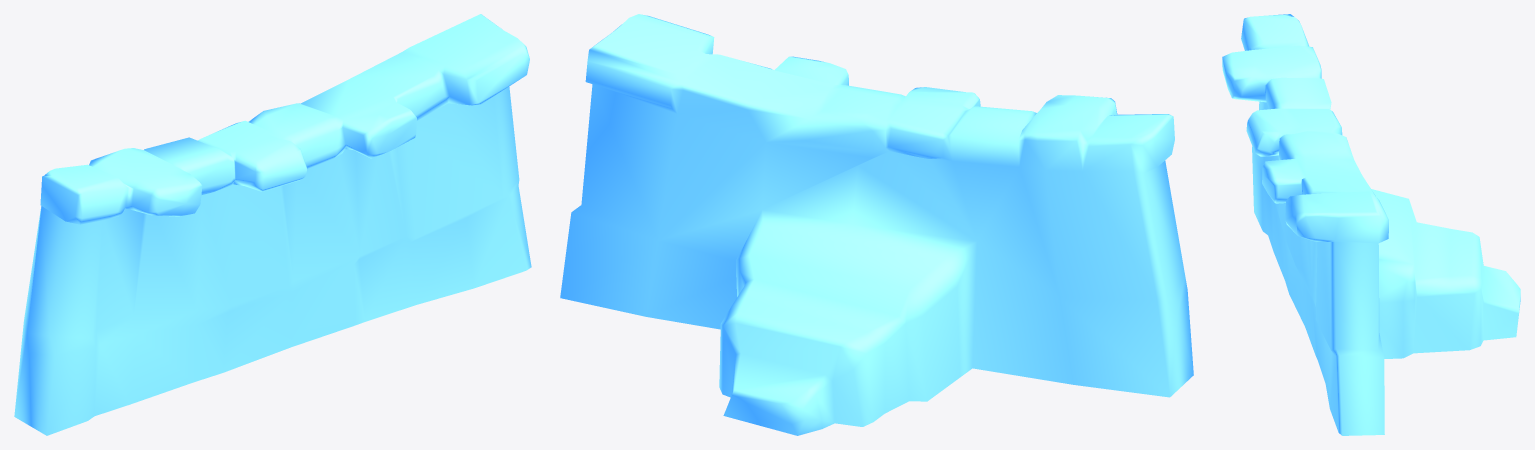
Rendered from ramp_curved_001.fbx.
3 views of the same model, side by side, from view 1: azimuth 30°, elevation 25°; view 2: azimuth 150°, elevation 25°; view 3: azimuth 270°, elevation 25° (orthographic). The views are drawn at different scales.
Visible parts, largest first — view 1: ramp_curved.001; view 2: ramp_curved.001; view 3: ramp_curved.001.
Part boxes in pixels (x1=…): ramp_curved.001: x1=14, y1=14, x2=531, y2=435; ramp_curved.001: x1=560, y1=14, x2=1193, y2=435; ramp_curved.001: x1=1222, y1=14, x2=1520, y2=435.
Size of the model in its own units: 37543 by 16380 by 20971.
